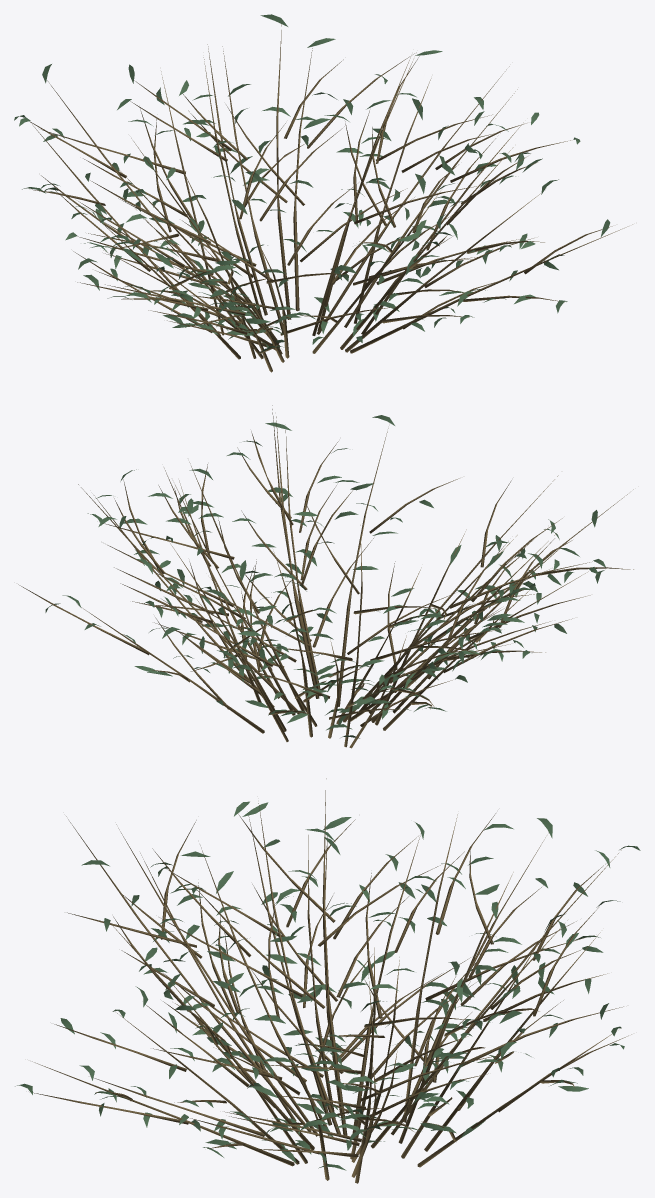
File: Romarin_Etale_LOD2.fbx
3 renders of one model, top to bottom at view 1: azimuth 30°, elevation 25°; view 2: azimuth 150°, elevation 25°; view 3: azimuth 270°, elevation 25°, orthographic. The views are drawn at different scales.
Parts seen in each view (by area): view 1: Romarin_Etale_LOD2; view 2: Romarin_Etale_LOD2; view 3: Romarin_Etale_LOD2.
Boxes of the visible parts, x1=… form: Romarin_Etale_LOD2: x1=14, y1=14, x2=632, y2=372; Romarin_Etale_LOD2: x1=18, y1=405, x2=633, y2=748; Romarin_Etale_LOD2: x1=15, y1=778, x2=640, y2=1183.
Size of the model in its own units: 104 by 51.24 by 99.12.
